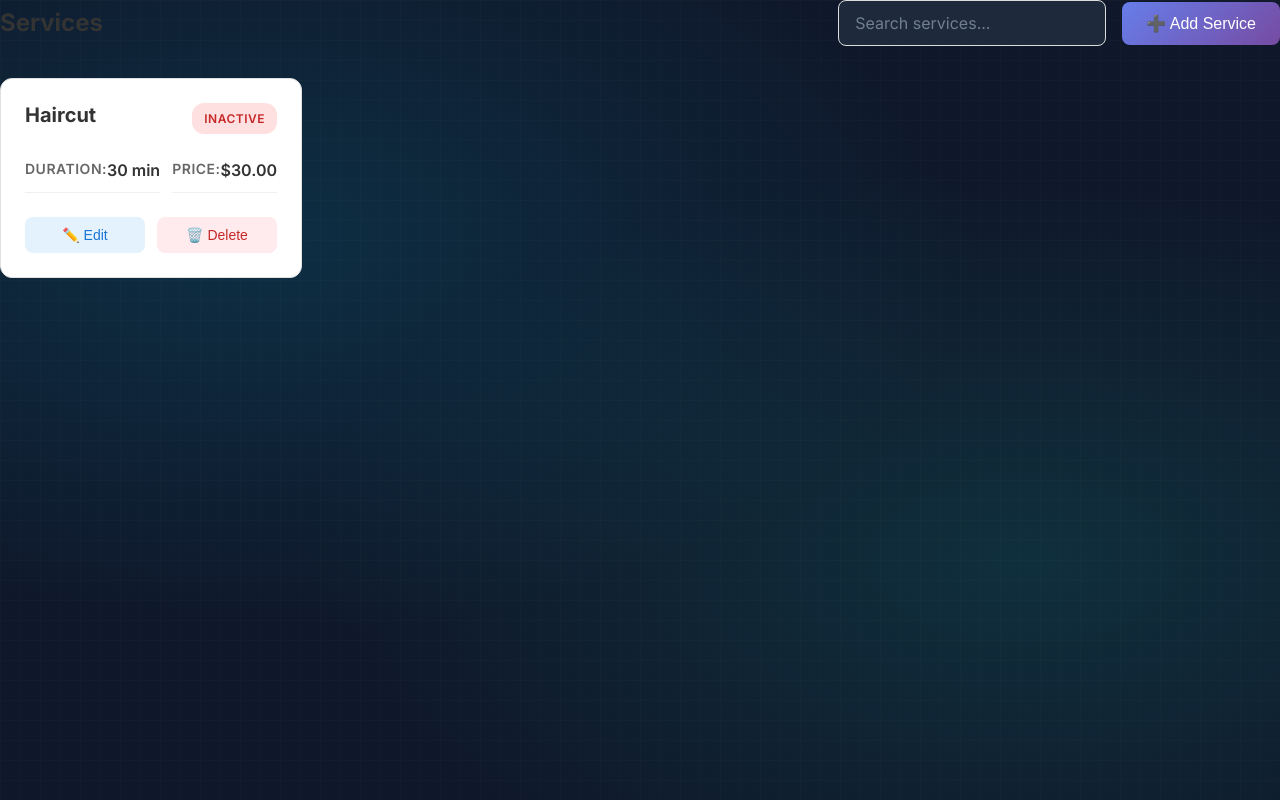
it: ServiceManager Component - TDD › Delete Service › should show confirmation dialog before deleting
Click the button "🗑️ Delete" at (217, 235), box [157,217,277,253]
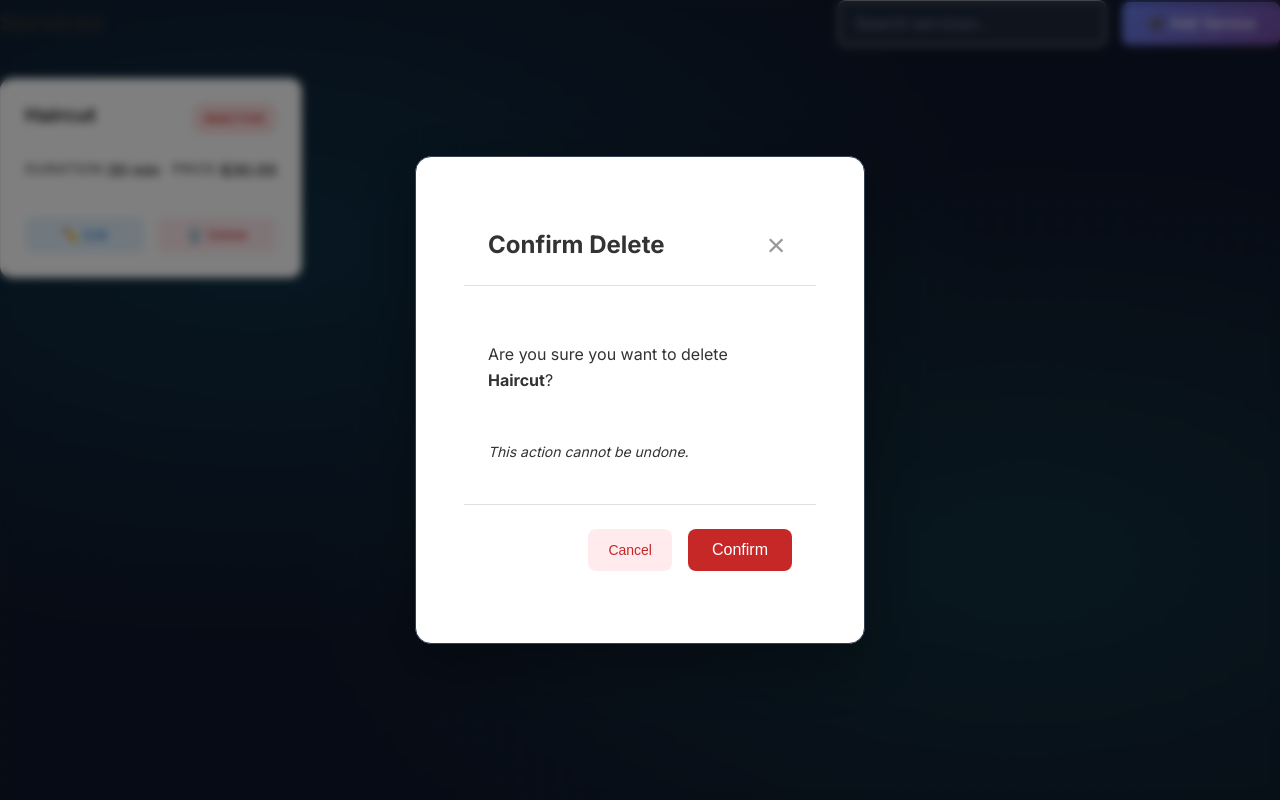
Result: the text "Are you sure you want to delete Haircut?" is shown at [488,344,728,390]
